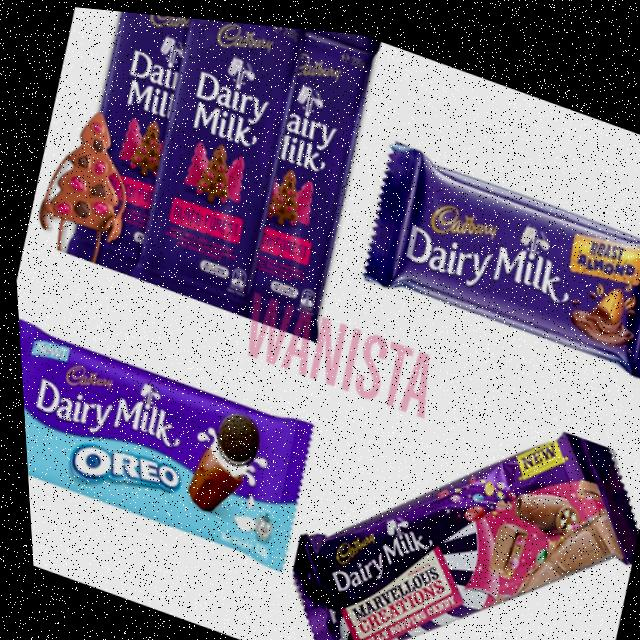cadbury: (252, 340, 640, 640), (15, 319, 314, 568), (351, 125, 640, 374), (193, 15, 395, 348), (120, 9, 321, 312)
